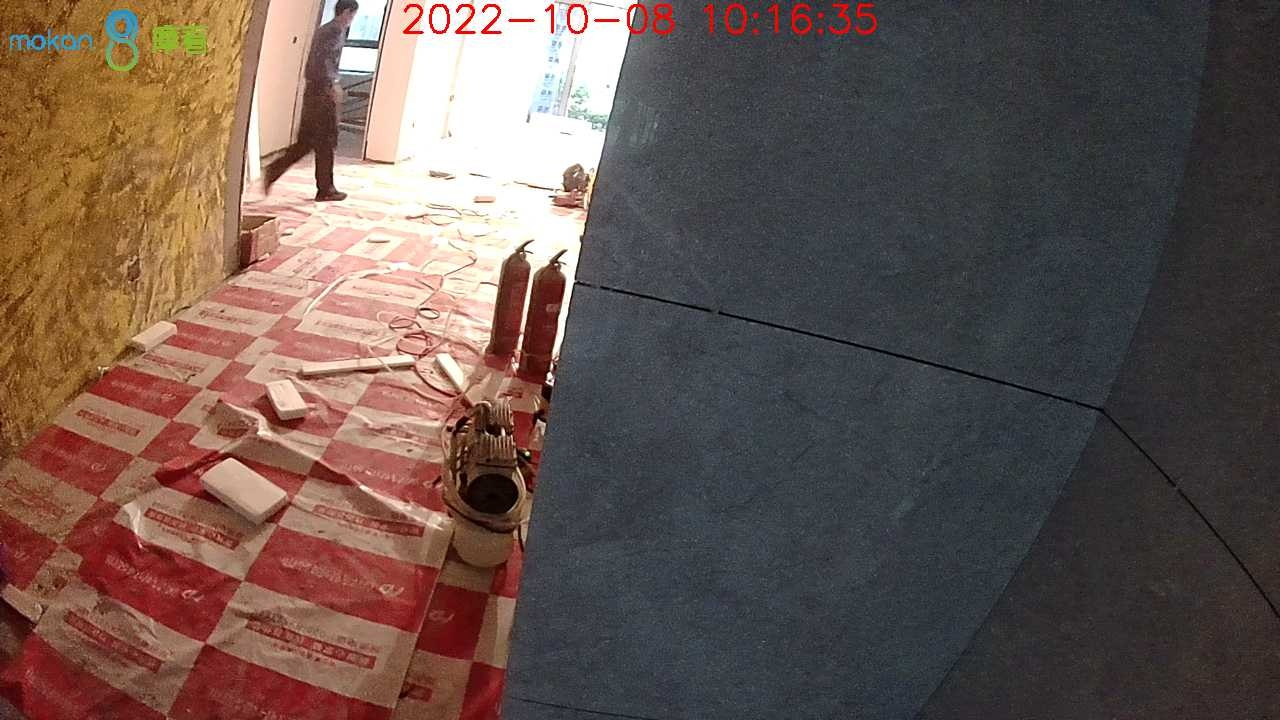people: (262, 1, 357, 201)
window: (461, 4, 624, 167)
